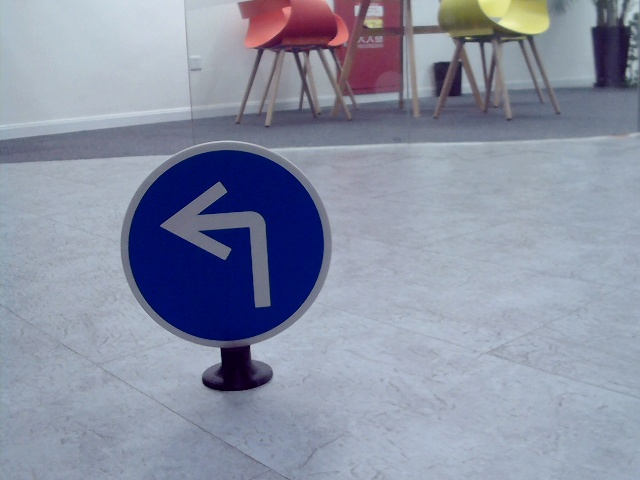turn_left: (159, 178, 275, 306)
